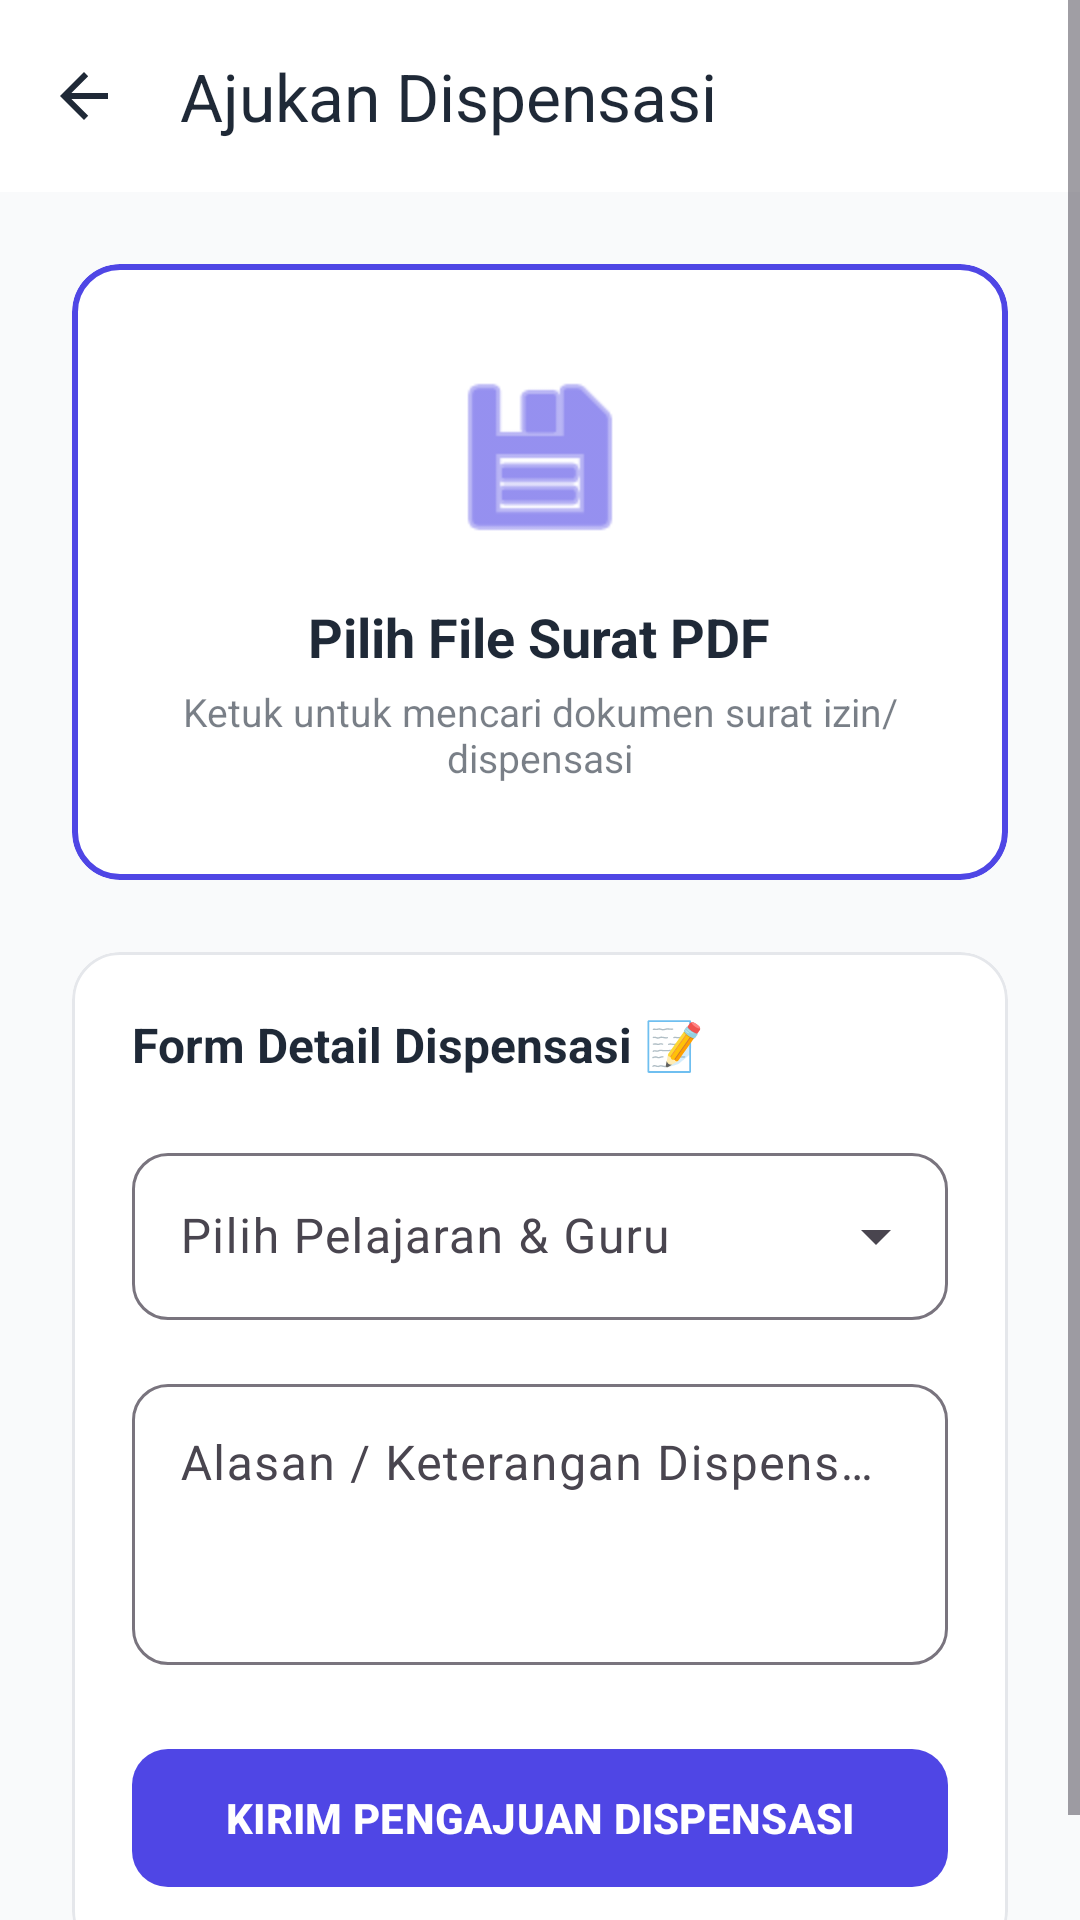

Icon click points for this 1080w x 1920h phone screenshot, format point (x, y):
save: point (540, 457)
